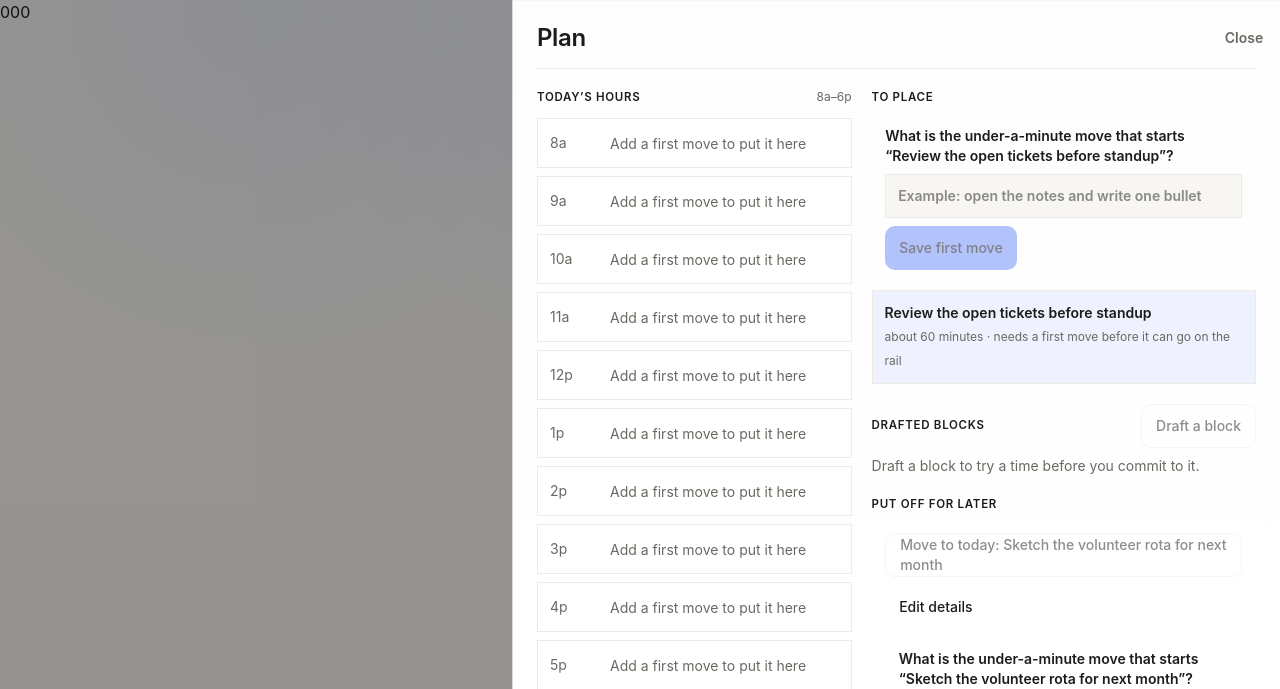
PlanSheet — the ported Plan surface › FINDING 1 — the rail never invites a placement it will refuse › invites the placement by name once a first move exists
The width and height of the screenshot is (1280, 689).
In the 1st field: {"x": 1064, "y": 196} [885, 174, 1242, 218], type "open the ticket list"
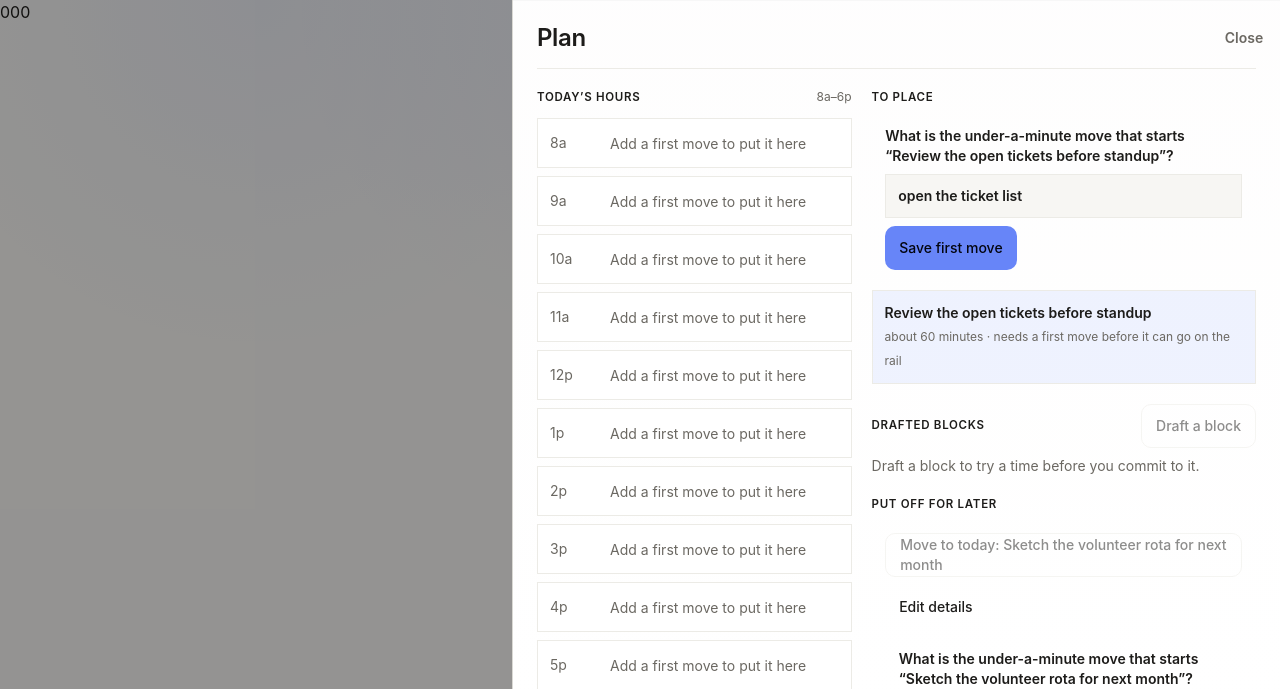
Click the button "Save first move": {"x": 951, "y": 248} [885, 226, 1017, 270]
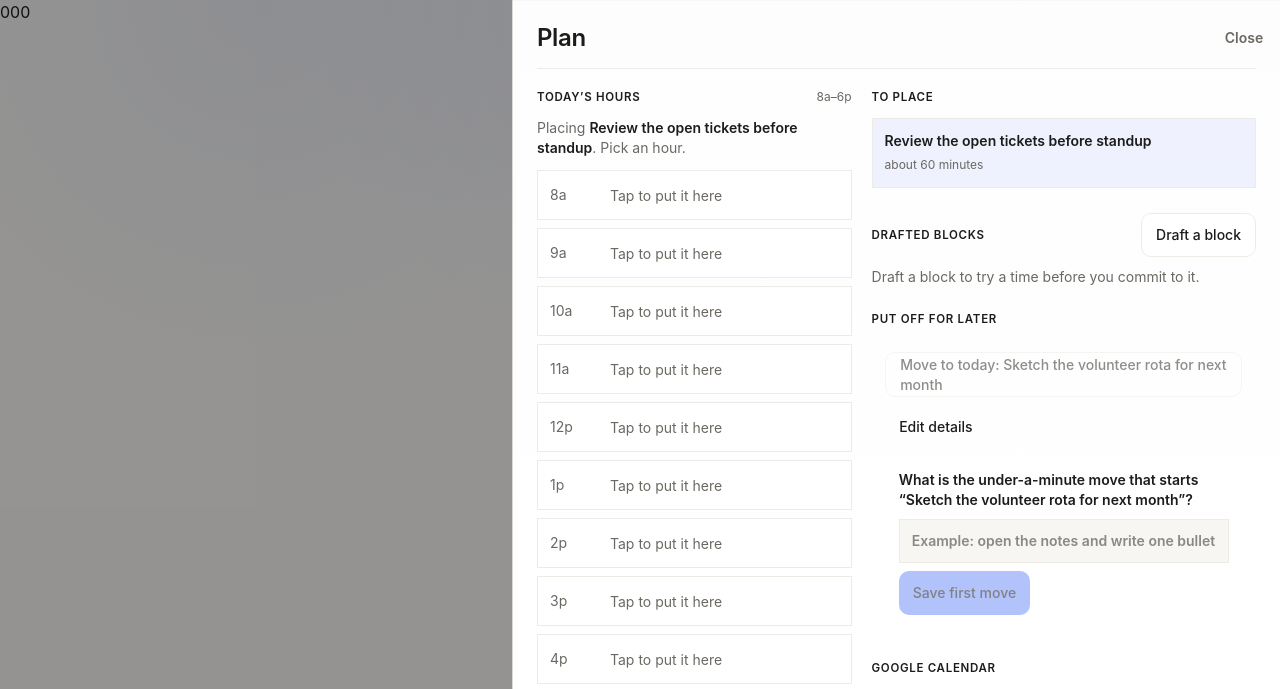
Check: the button with test id "plan-sheet-hour-9" shows "Tap to put it here", box [537, 228, 852, 278]
